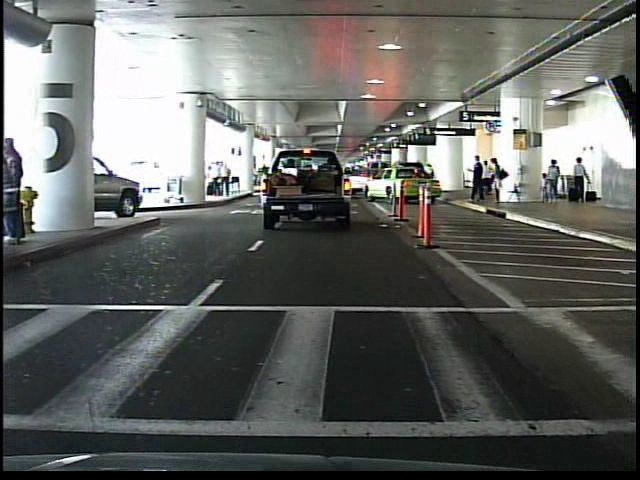person: (469, 154, 487, 206), (491, 157, 507, 206), (482, 158, 492, 199)
